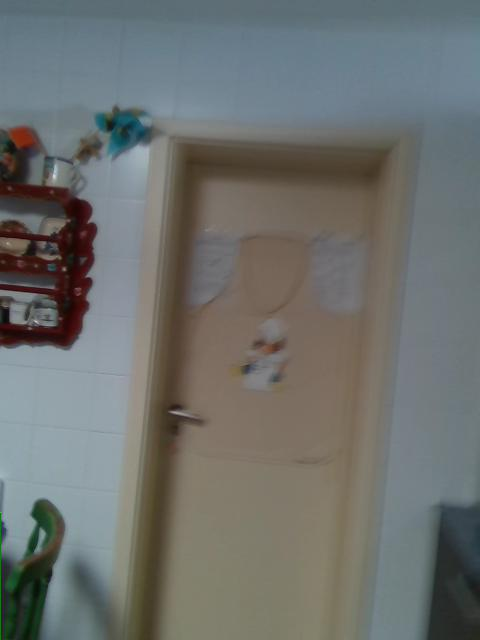door: (145, 160, 375, 639)
